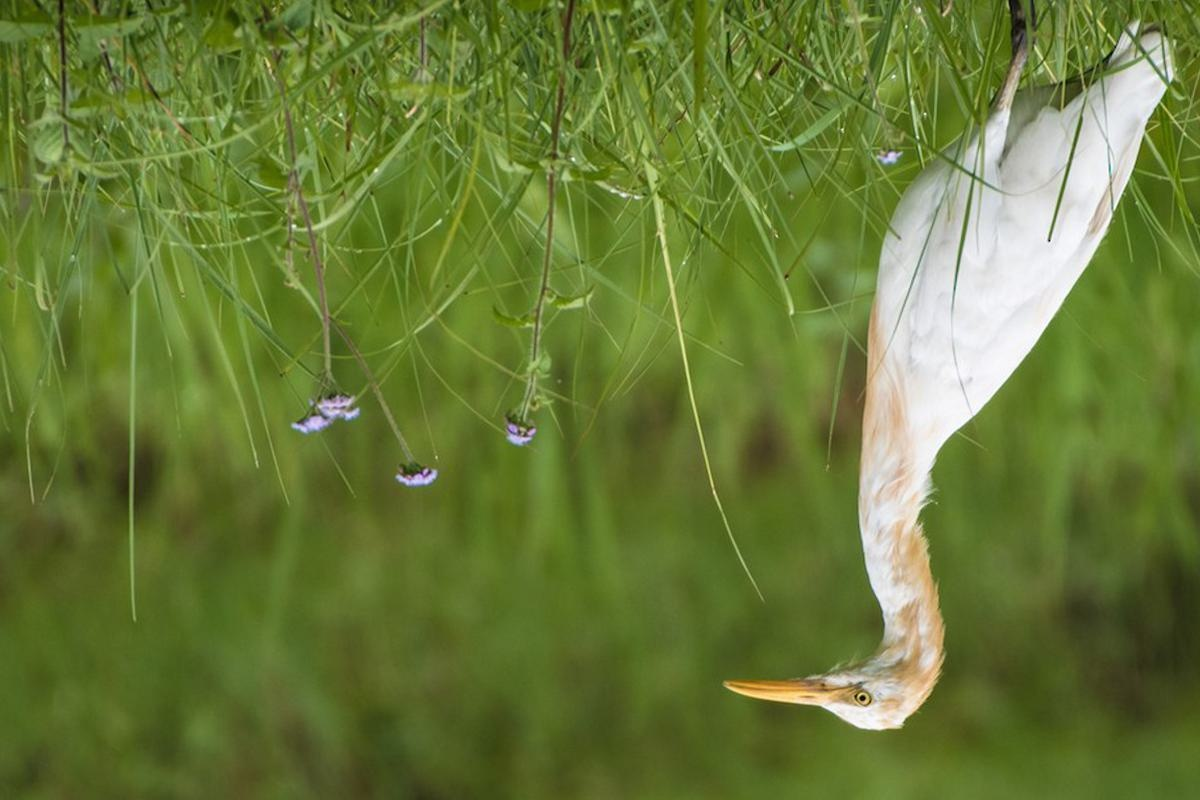egret: (713, 15, 1173, 740)
